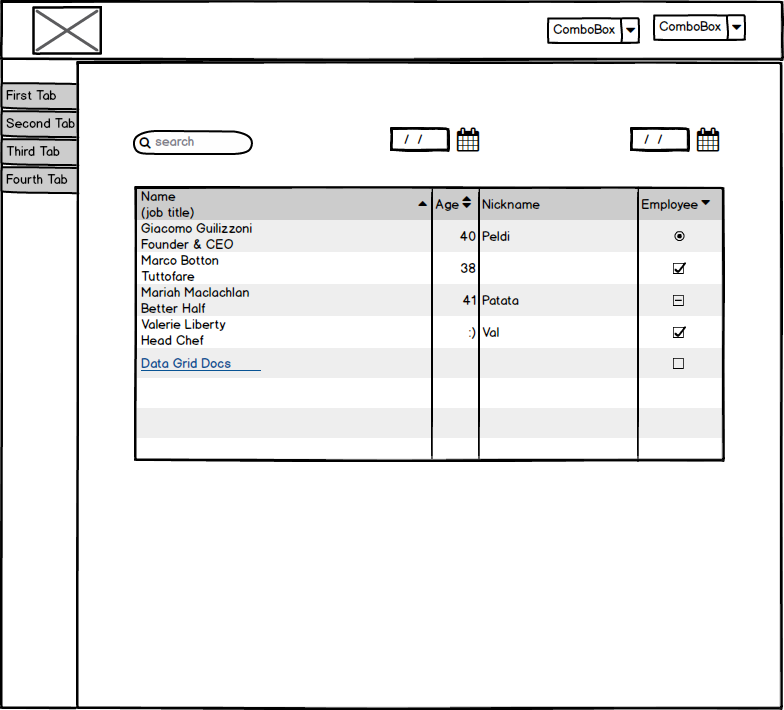date_picker: (383, 122, 487, 160), (627, 119, 724, 159)
image: (28, 2, 106, 55)
search: (130, 122, 258, 162)
select_box: (544, 11, 646, 48), (651, 10, 750, 44)
sidebar: (2, 79, 82, 199)
table: (130, 179, 730, 465)
